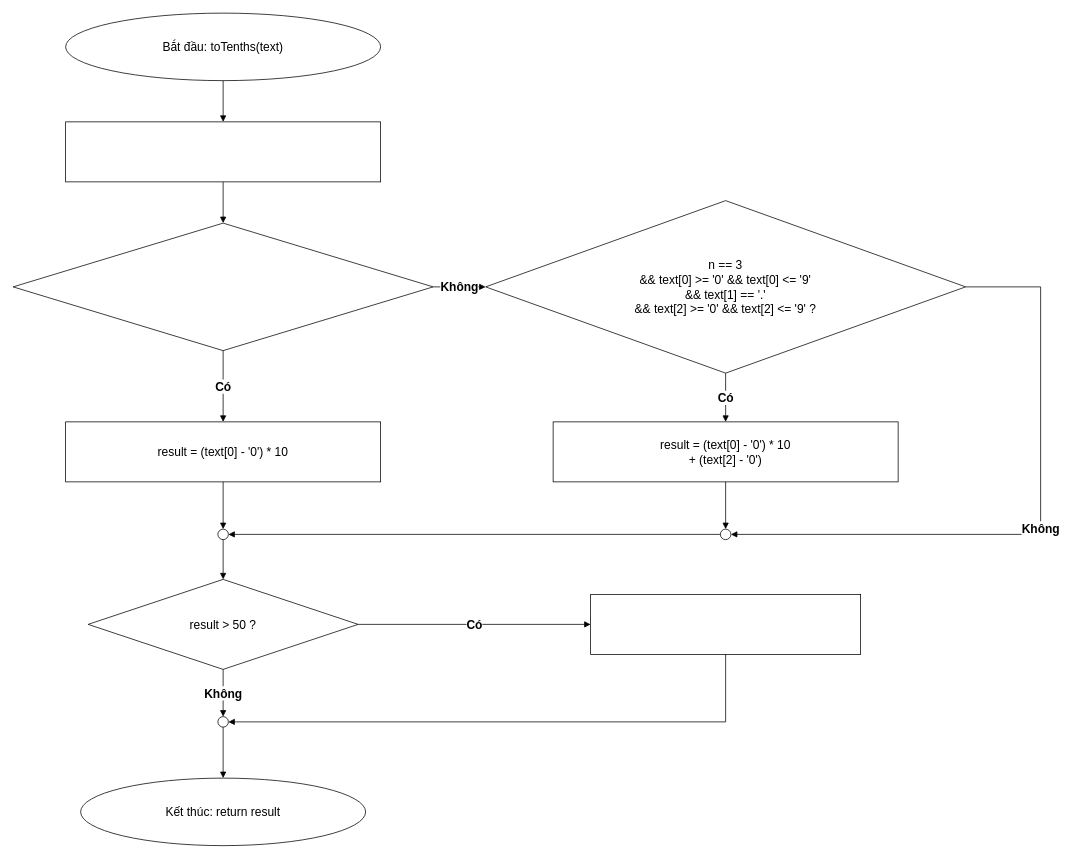
Image size: 1073x859. Some labels were removed from this diagram. Each missing label, with the centre of its shape:
n = text.length() result = -1: the point at 223,151
n == 1 && text[0] >= '0' && text[0] <= '9' ?: the point at 222,286
result = -1: the point at 725,624
